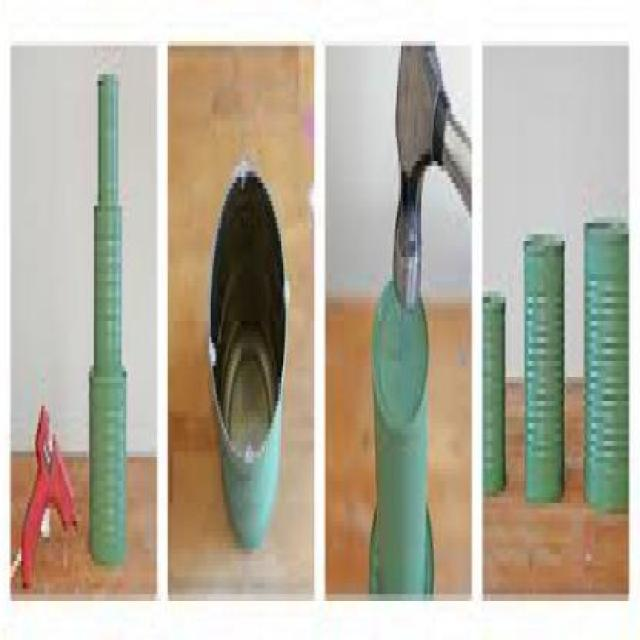METAL: (209, 160, 289, 543), (394, 35, 472, 302), (377, 268, 431, 588), (586, 212, 628, 498), (528, 229, 566, 497), (91, 354, 129, 560), (371, 497, 435, 594), (484, 285, 508, 498), (96, 200, 124, 360), (99, 68, 121, 201)
